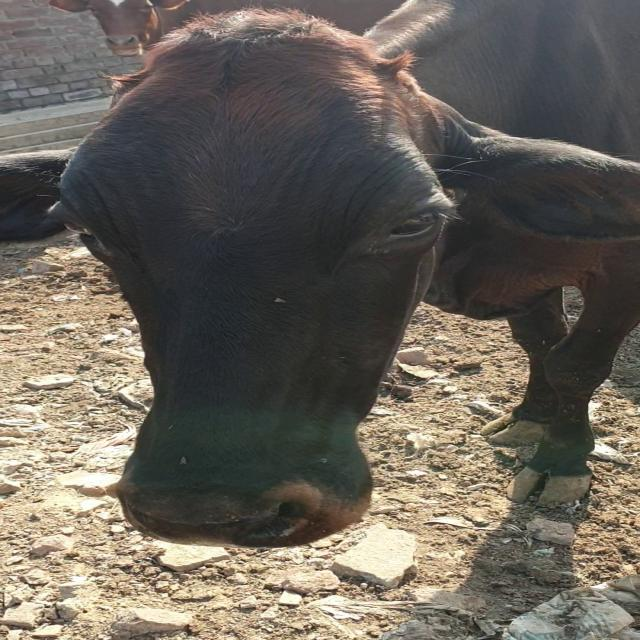cowFace: (58, 23, 397, 546)
